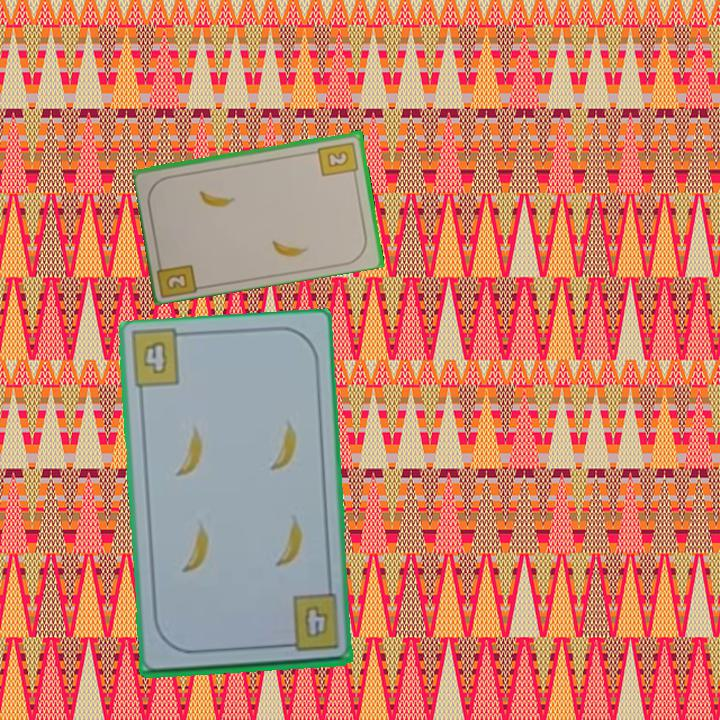2b: (154, 254, 202, 299), (315, 138, 361, 180)
4b: (277, 592, 342, 654), (139, 337, 170, 377)
